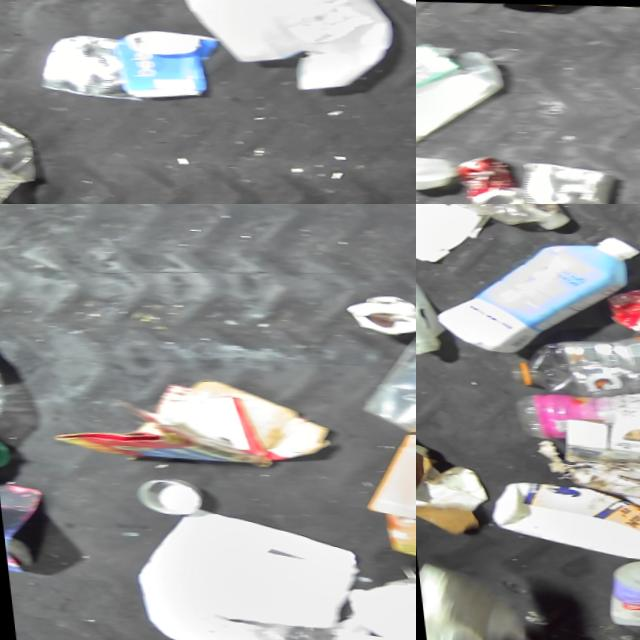can: (29, 28, 130, 100), (509, 152, 613, 204), (451, 149, 525, 204), (341, 286, 416, 333), (125, 471, 200, 515)
milk_jug: (165, 0, 394, 92), (416, 224, 445, 356)
plastic_bottle: (498, 319, 640, 400), (416, 204, 575, 234), (370, 557, 416, 617), (236, 613, 338, 640), (0, 307, 6, 458)
